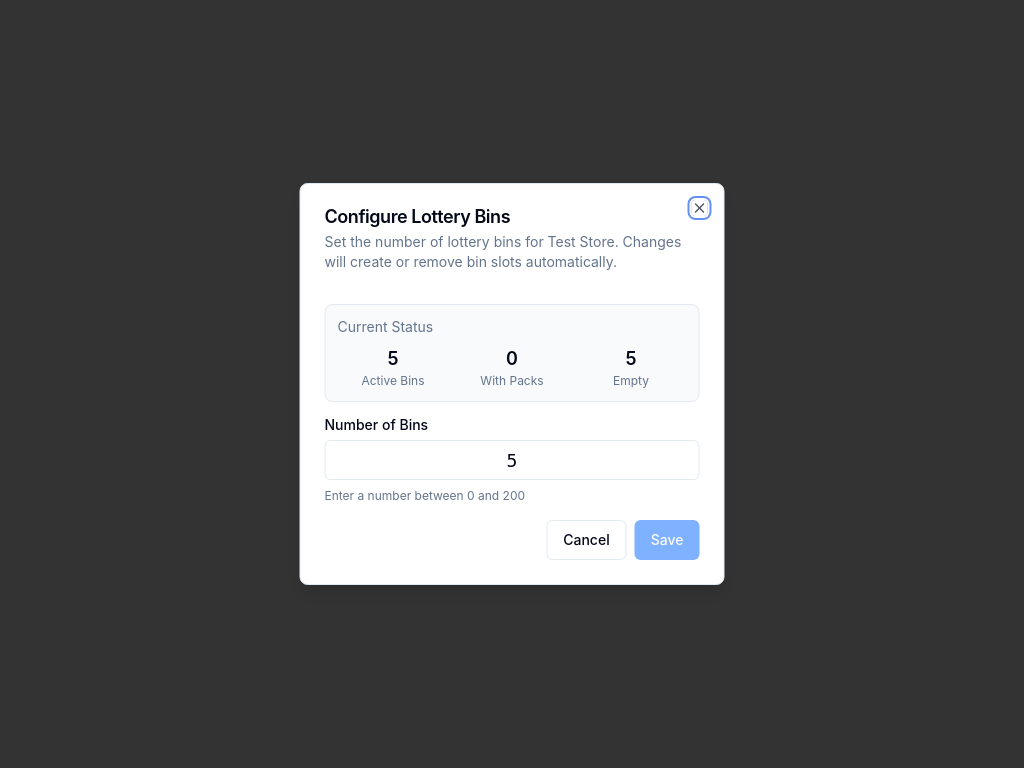
Test: BinCountModal › Edge Cases and Boundary Values › should disable input while mutation is pending
The width and height of the screenshot is (1024, 768).
Step 1. Replace the text in the field with test id "bin-count-input" with "10" → (512, 460), box [324, 440, 700, 480]
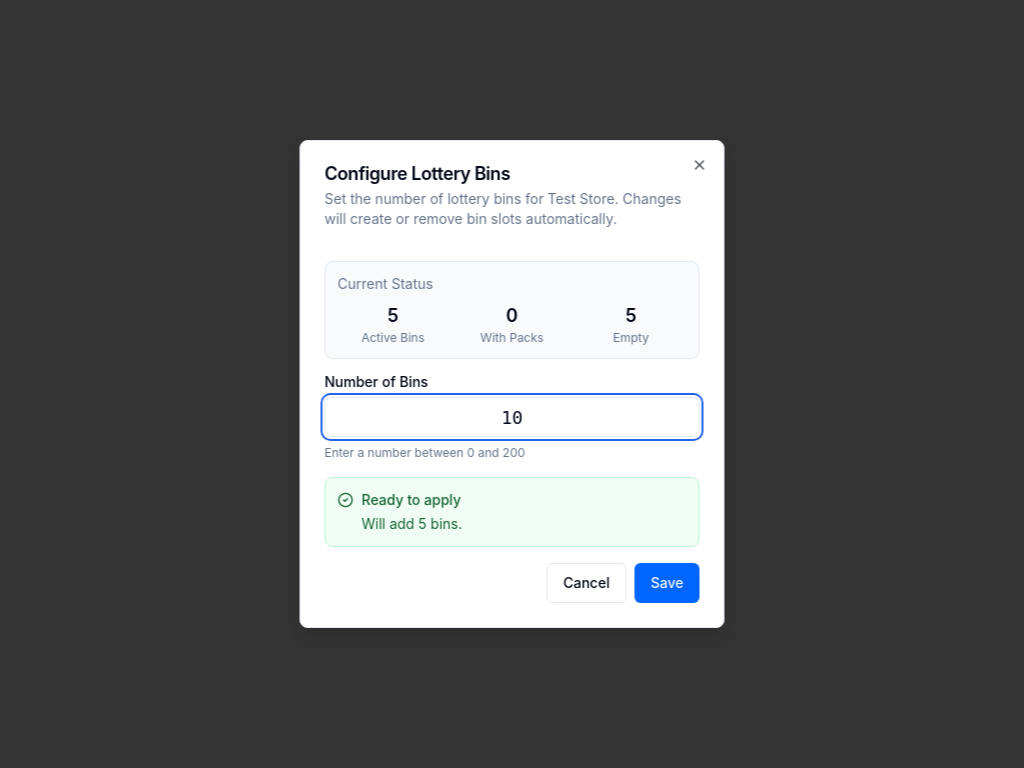
Check: the button with test id "bin-count-save-button" is enabled
// Click save
Step 2. Click the button with test id "bin-count-save-button" → (667, 583), box [635, 563, 700, 603]
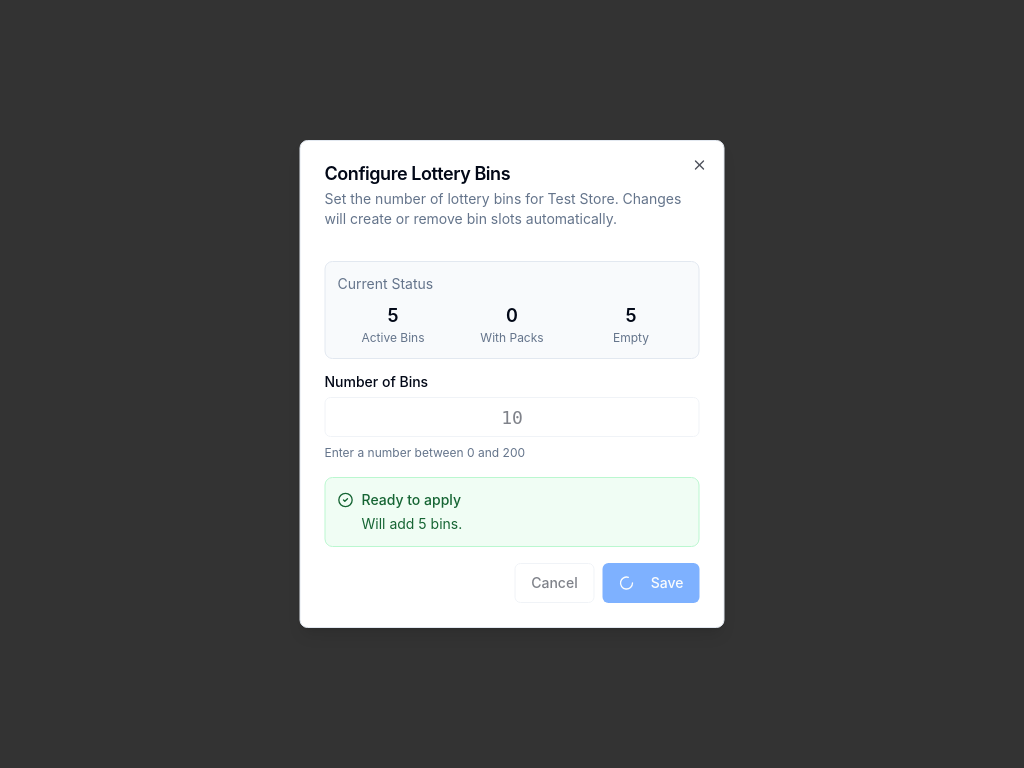
Check: the field with test id "bin-count-input" is disabled, box [324, 397, 700, 437]
